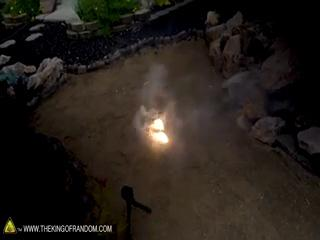Fire: (148, 116, 177, 154)
